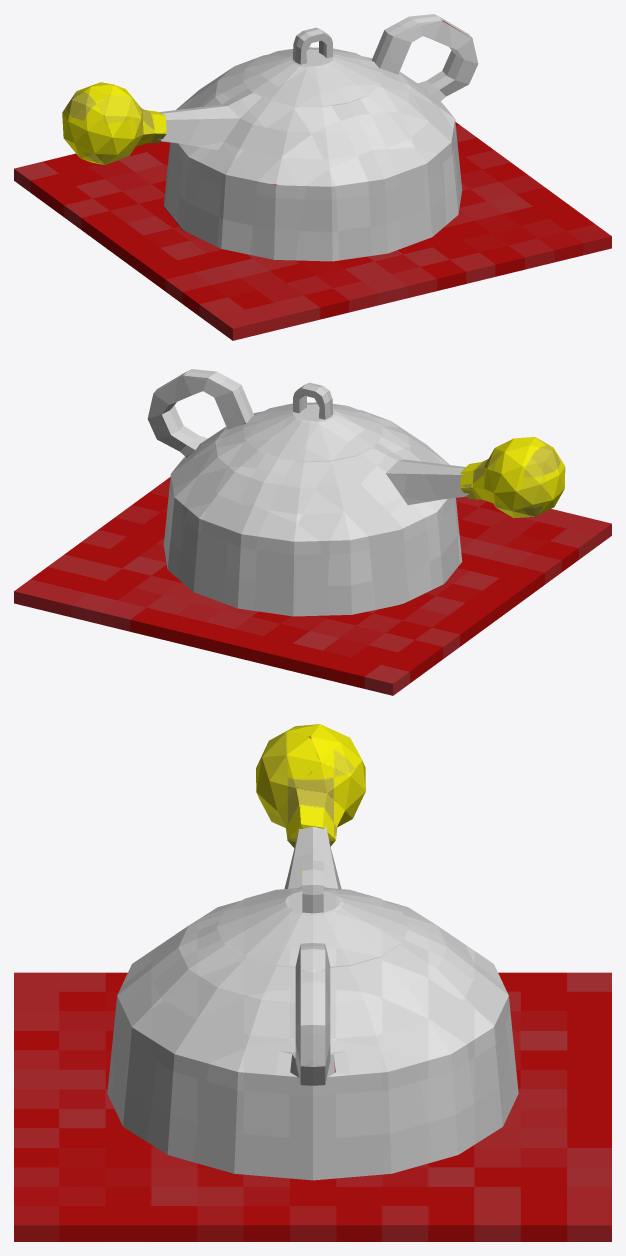
Rendered from teapot.fbx.
3 renders of one model, top to bottom at view 1: azimuth 30°, elevation 25°; view 2: azimuth 150°, elevation 25°; view 3: azimuth 270°, elevation 25°, orthographic. The views are drawn at different scales.
Visible parts, largest first — view 1: Teapot, plate, Teapot top, baloon; view 2: Teapot, plate, Teapot top, baloon; view 3: Teapot, plate, Teapot top, baloon.
Part boxes in pixels (box(x1,y1,x2,y2)): Teapot: box(159, 14, 478, 261); plate: box(14, 122, 611, 340); Teapot top: box(243, 27, 382, 106); baloon: box(62, 82, 166, 164); Teapot: box(147, 369, 468, 616); plate: box(14, 477, 611, 695); Teapot top: box(243, 382, 382, 461); baloon: box(460, 437, 565, 518); Teapot: box(107, 826, 518, 1180); plate: box(14, 972, 611, 1241); Teapot top: box(216, 860, 409, 966); baloon: box(256, 724, 365, 847).
Size of the model in its own units: 213 by 85.71 by 185.
3 materials, 3 textured.
